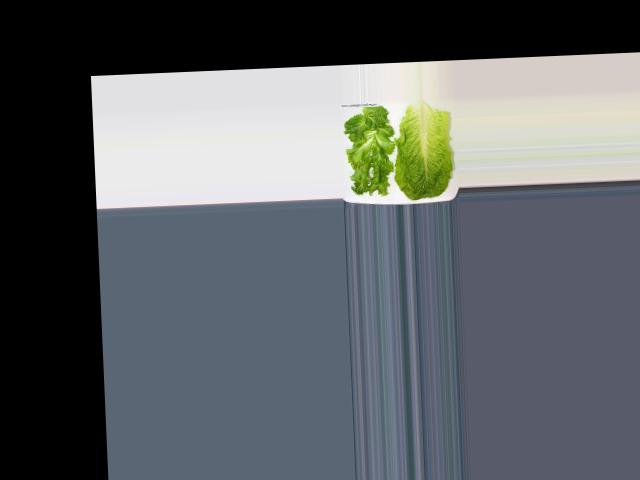lettuce: (338, 108, 394, 197)
